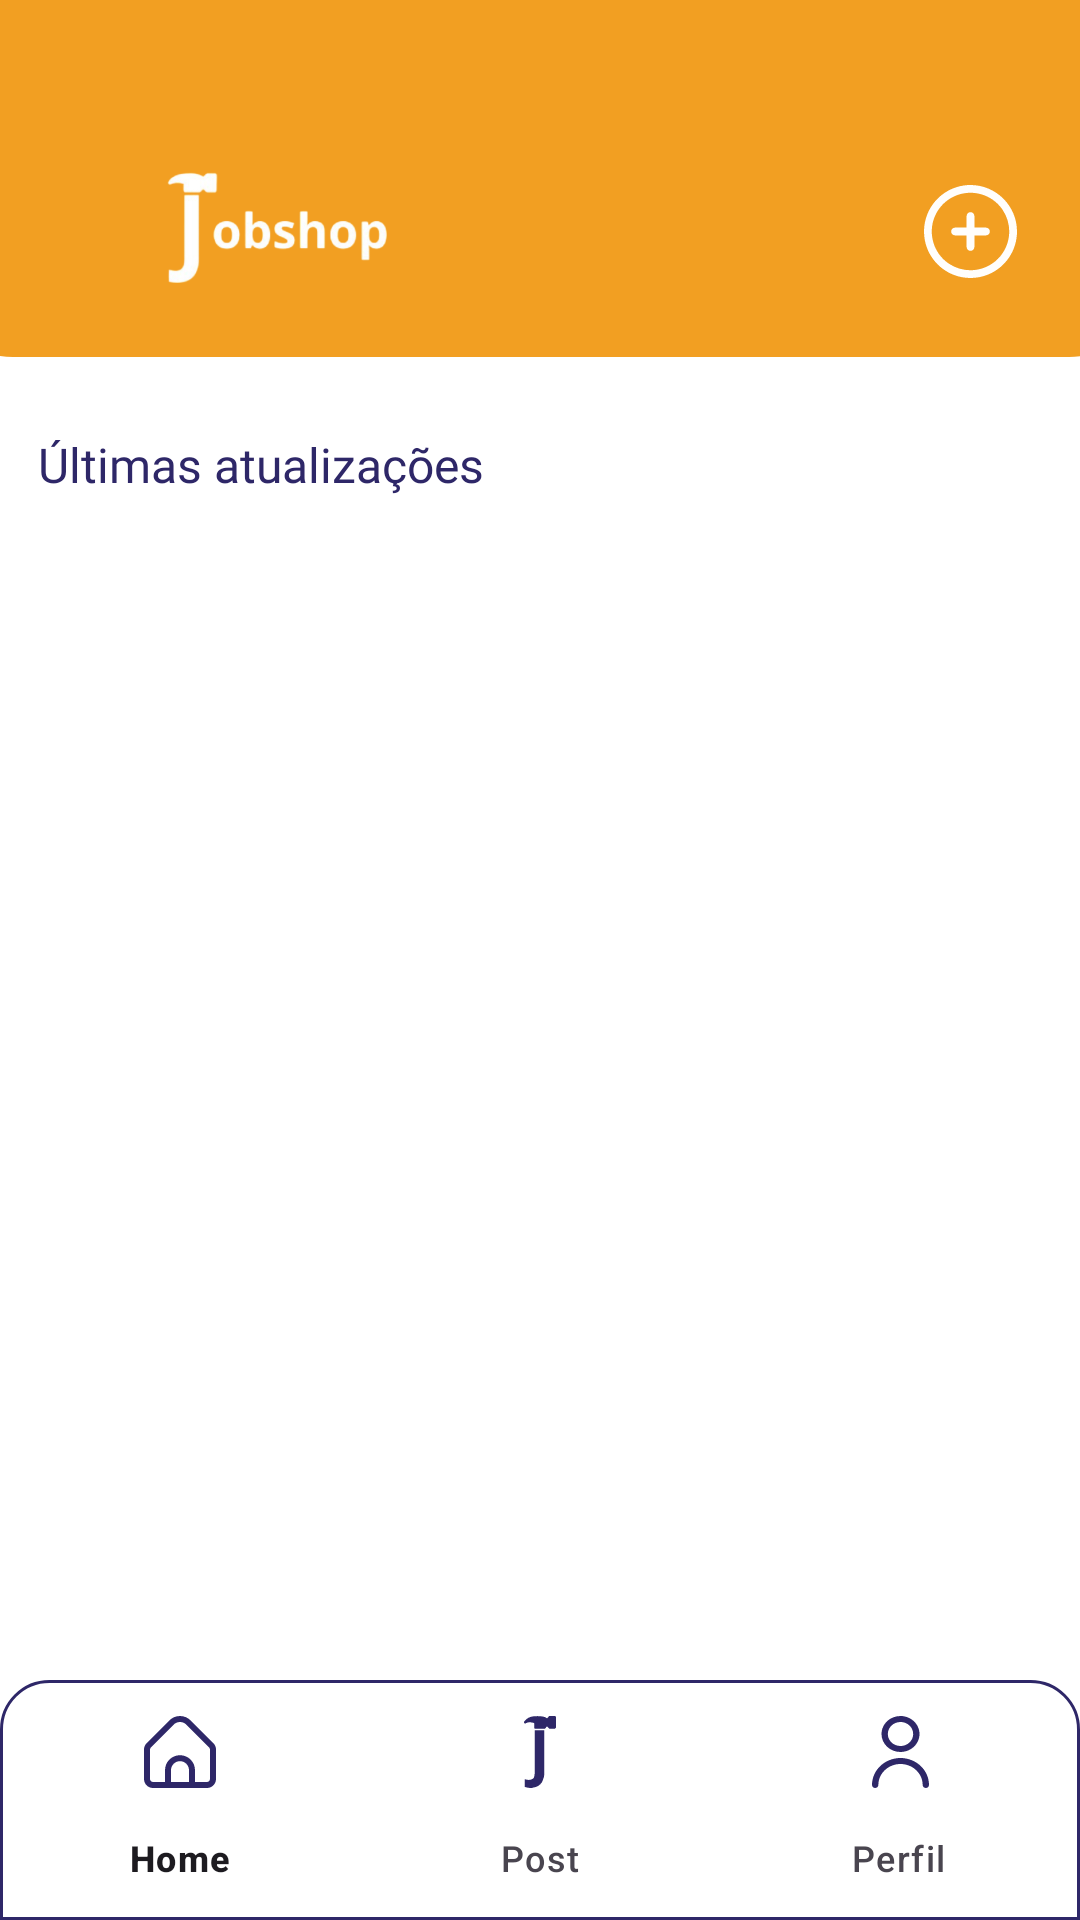

Icons on this 1080w x 1920h Android screen, each with the point to tap as (x,y):
mais: (970,231)
